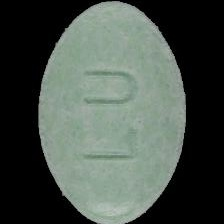61919-311: (0, 0, 224, 224)
